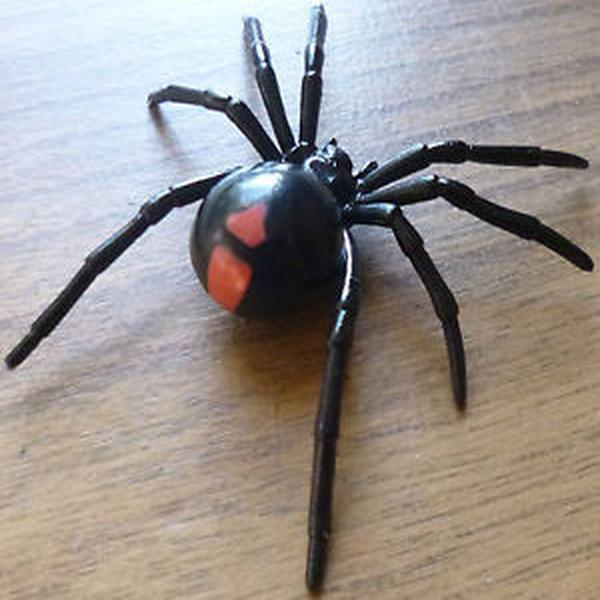Redback Spider: (43, 7, 572, 567)
